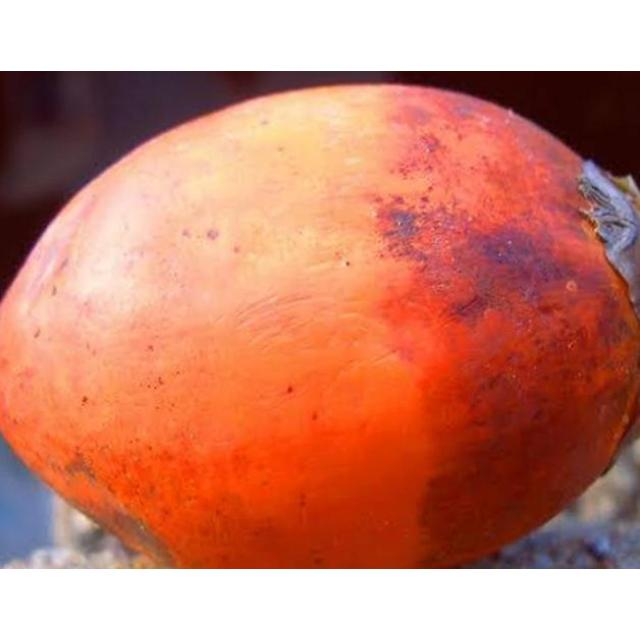good: (0, 82, 639, 568)
